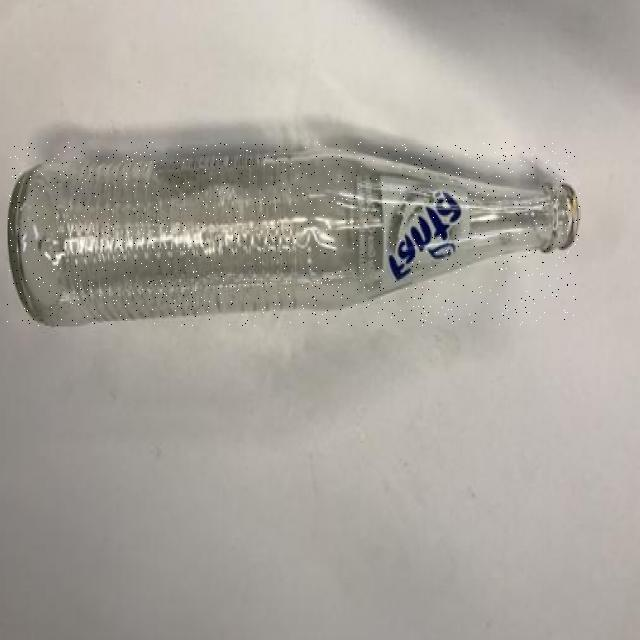glass: (7, 142, 580, 325)
